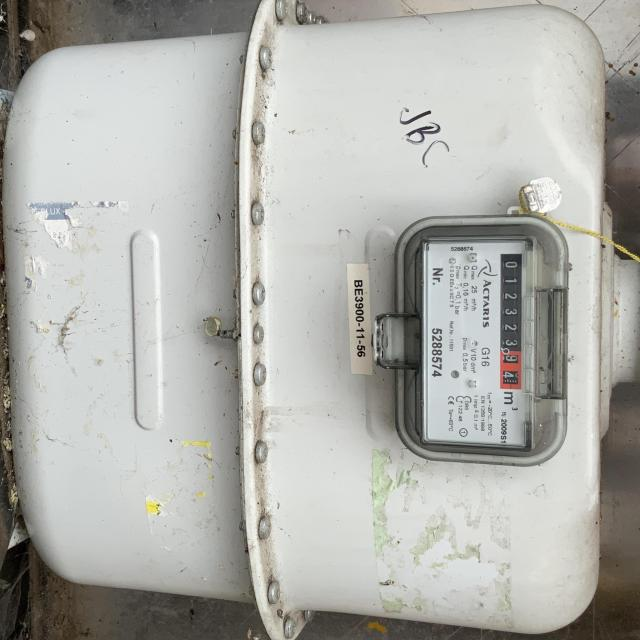gaz_meter: (423, 242, 533, 452)
indication: (499, 252, 521, 391)
